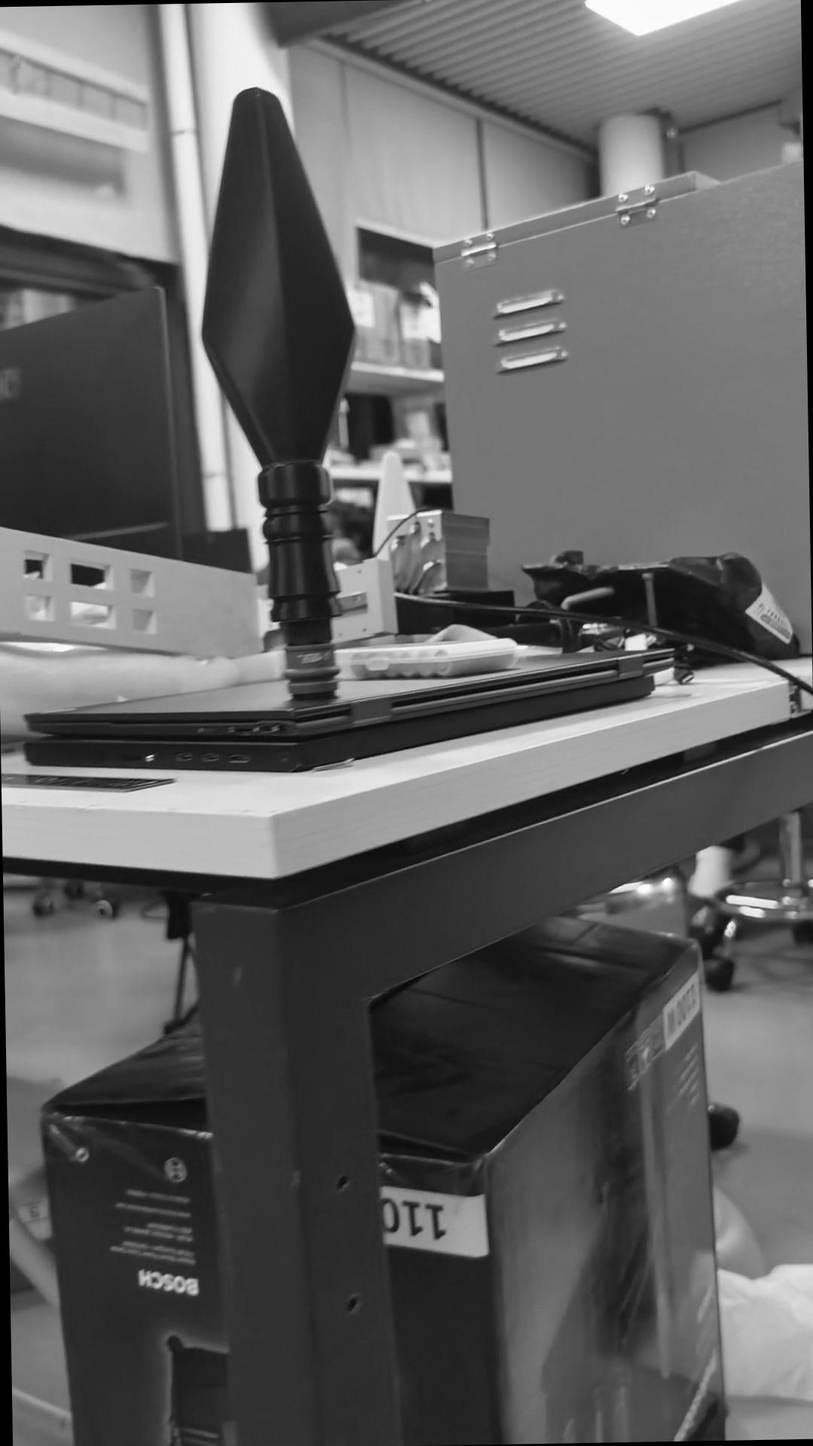base: (264, 631, 352, 716)
